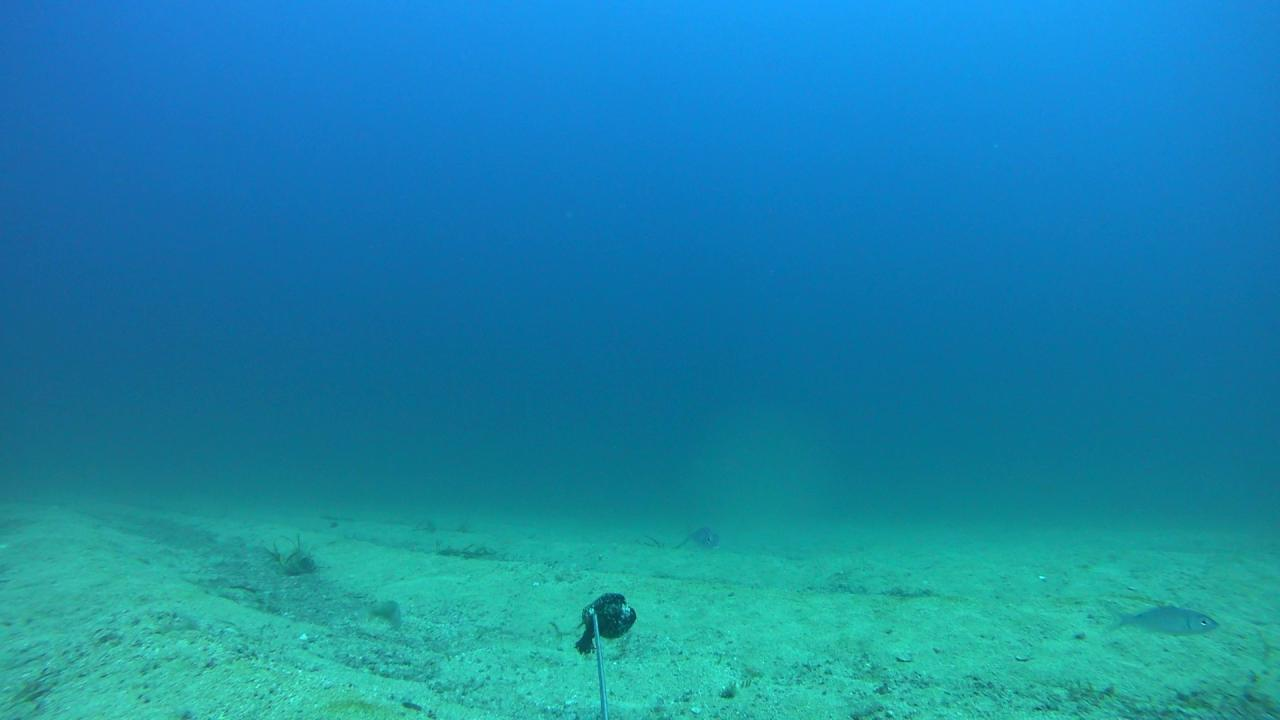pagellus: (1102, 599, 1219, 636), (677, 521, 721, 551)
raor: (359, 596, 405, 631)
